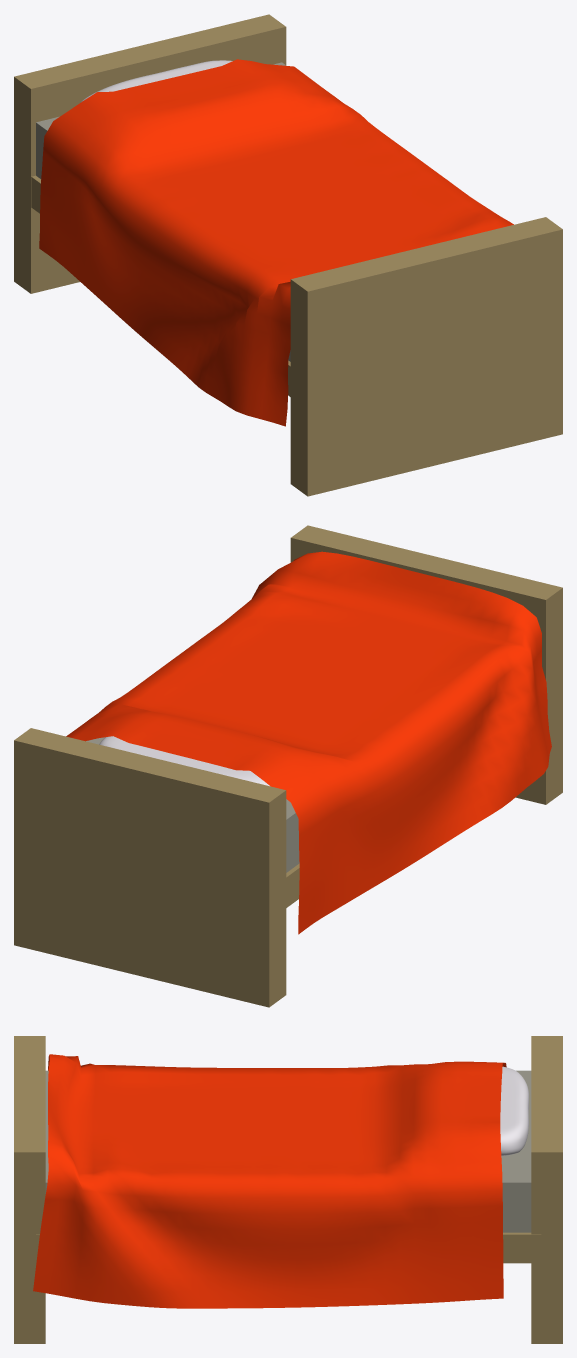
File: SingleBed.fbx
3 views of the same model, one above another, from view 1: azimuth 30°, elevation 25°; view 2: azimuth 150°, elevation 25°; view 3: azimuth 270°, elevation 25° (orthographic). The views are drawn at different scales.
Visible parts, largest first — view 1: Plane, Cube.028, Cube.027, Sphere.011; view 2: Plane, Cube.027, Cube.028, Sphere.011, Cube.024; view 3: Plane, Cube.027, Cube.028, Cube.024, Sphere.011, Cube.026.
Boxes of the visible parts, <box> form: Plane: <box>39,59,513,426</box>; Cube.028: <box>290,217,562,496</box>; Cube.027: <box>14,14,286,293</box>; Sphere.011: <box>80,60,232,102</box>; Plane: <box>66,551,551,934</box>; Cube.027: <box>14,728,286,1007</box>; Cube.028: <box>290,525,562,804</box>; Sphere.011: <box>99,736,269,786</box>; Cube.024: <box>86,737,299,872</box>; Plane: <box>33,1054,506,1308</box>; Cube.027: <box>531,1036,562,1343</box>; Cube.028: <box>14,1036,45,1343</box>; Cube.024: <box>45,1070,531,1232</box>; Sphere.011: <box>500,1066,528,1155</box>; Cube.026: <box>36,1232,541,1263</box>.
Bounding box in the file's own units: 480 × 306 × 794.
